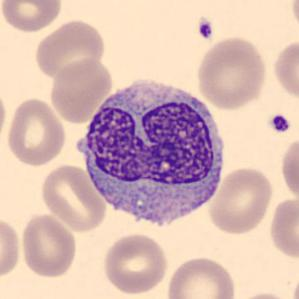Monocyte: (72, 70, 232, 236)
Platelets: (268, 112, 292, 135), (195, 16, 215, 42)
RBC: (194, 34, 269, 111), (32, 17, 108, 83), (38, 162, 108, 233), (206, 164, 275, 236), (100, 231, 170, 296), (4, 96, 68, 167), (48, 57, 115, 124), (18, 211, 79, 279), (164, 253, 238, 299), (0, 0, 63, 34), (268, 195, 298, 262), (270, 36, 299, 104), (0, 214, 22, 281), (278, 134, 298, 204), (232, 289, 295, 299), (288, 0, 299, 37), (291, 267, 299, 299)
